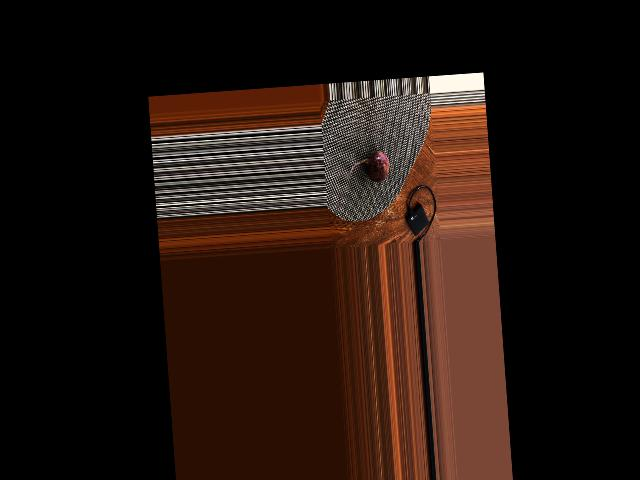beet: (347, 150, 390, 184)
